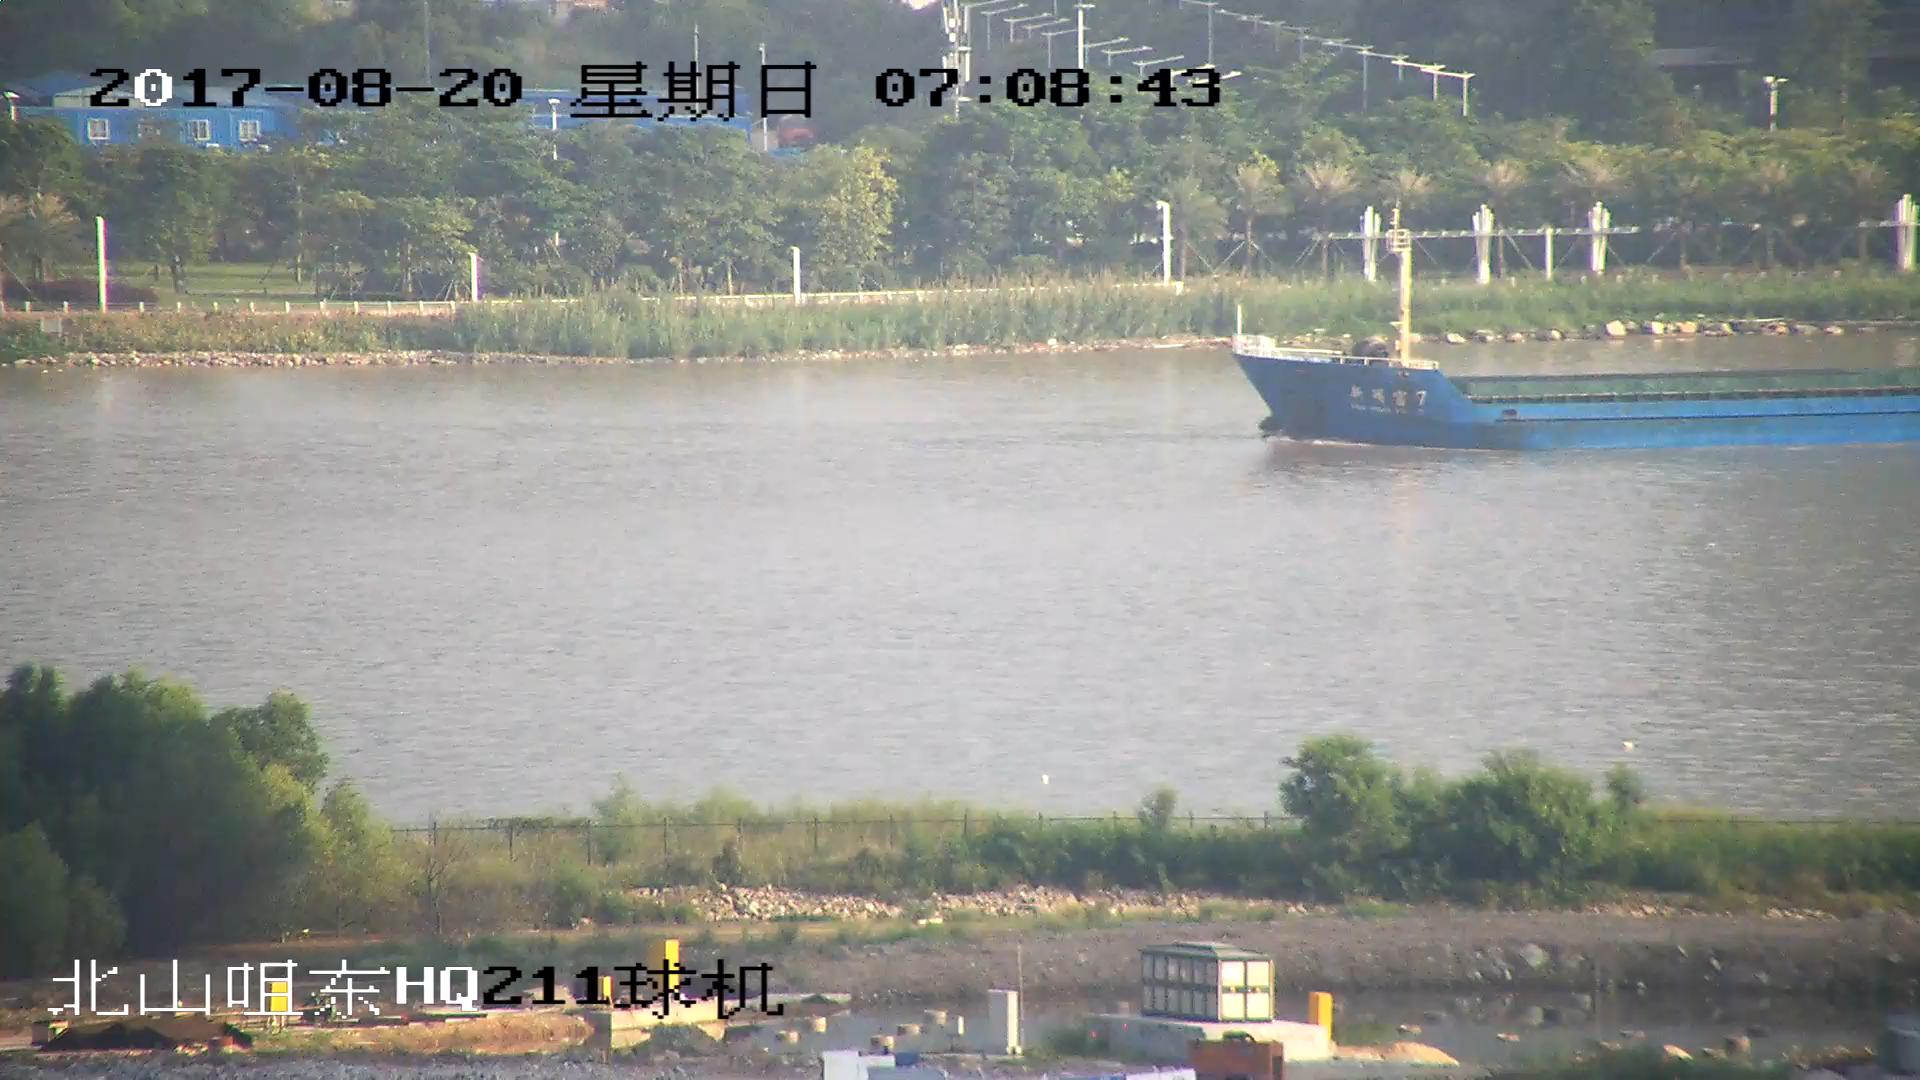general cargo ship: (1229, 238, 1920, 450)
